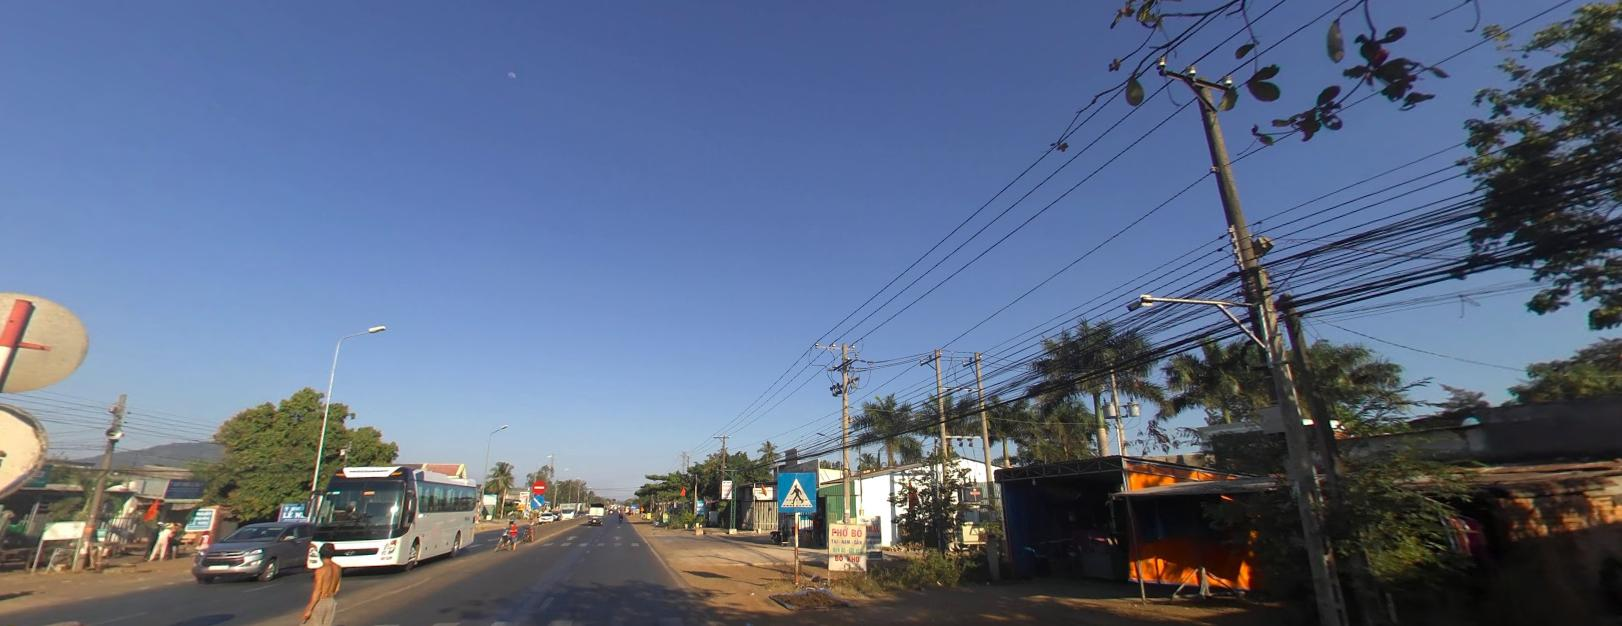Cam nguoc chieu: (531, 479, 545, 493)
Hieu lenh: (530, 493, 546, 506)
Nguy hiem: (638, 504, 645, 510)
